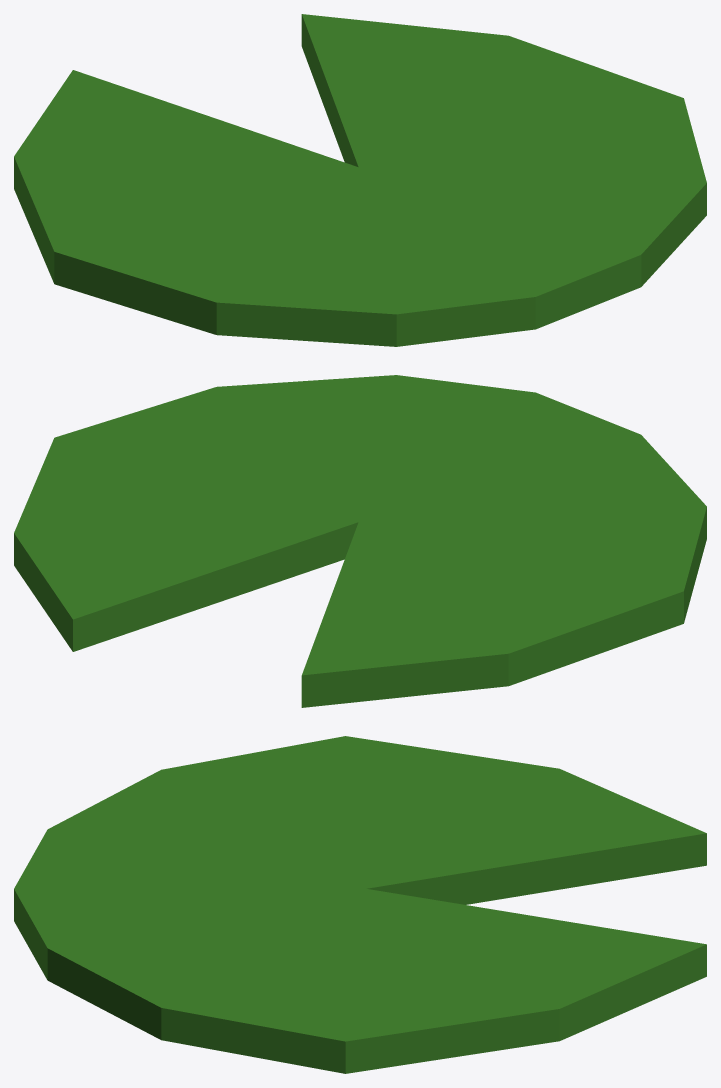
File: Lillypad.fbx
3 renders of one model, top to bottom at view 1: azimuth 30°, elevation 25°; view 2: azimuth 150°, elevation 25°; view 3: azimuth 270°, elevation 25°, orthographic.
Visible parts, largest first — view 1: Cube.010; view 2: Cube.010; view 3: Cube.010.
Boxes of the visible parts, box(x1,y1,x2,y2) form: Cube.010: box(14, 14, 706, 346); Cube.010: box(14, 375, 706, 707); Cube.010: box(14, 736, 706, 1073).
Bounding box in the file's own units: 0.8986 × 0.0444 × 0.8613.
